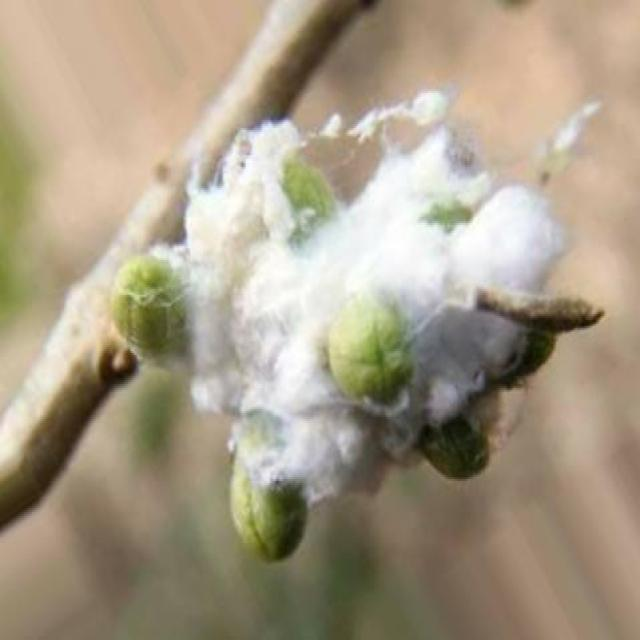Psyllid: (156, 91, 600, 559)
